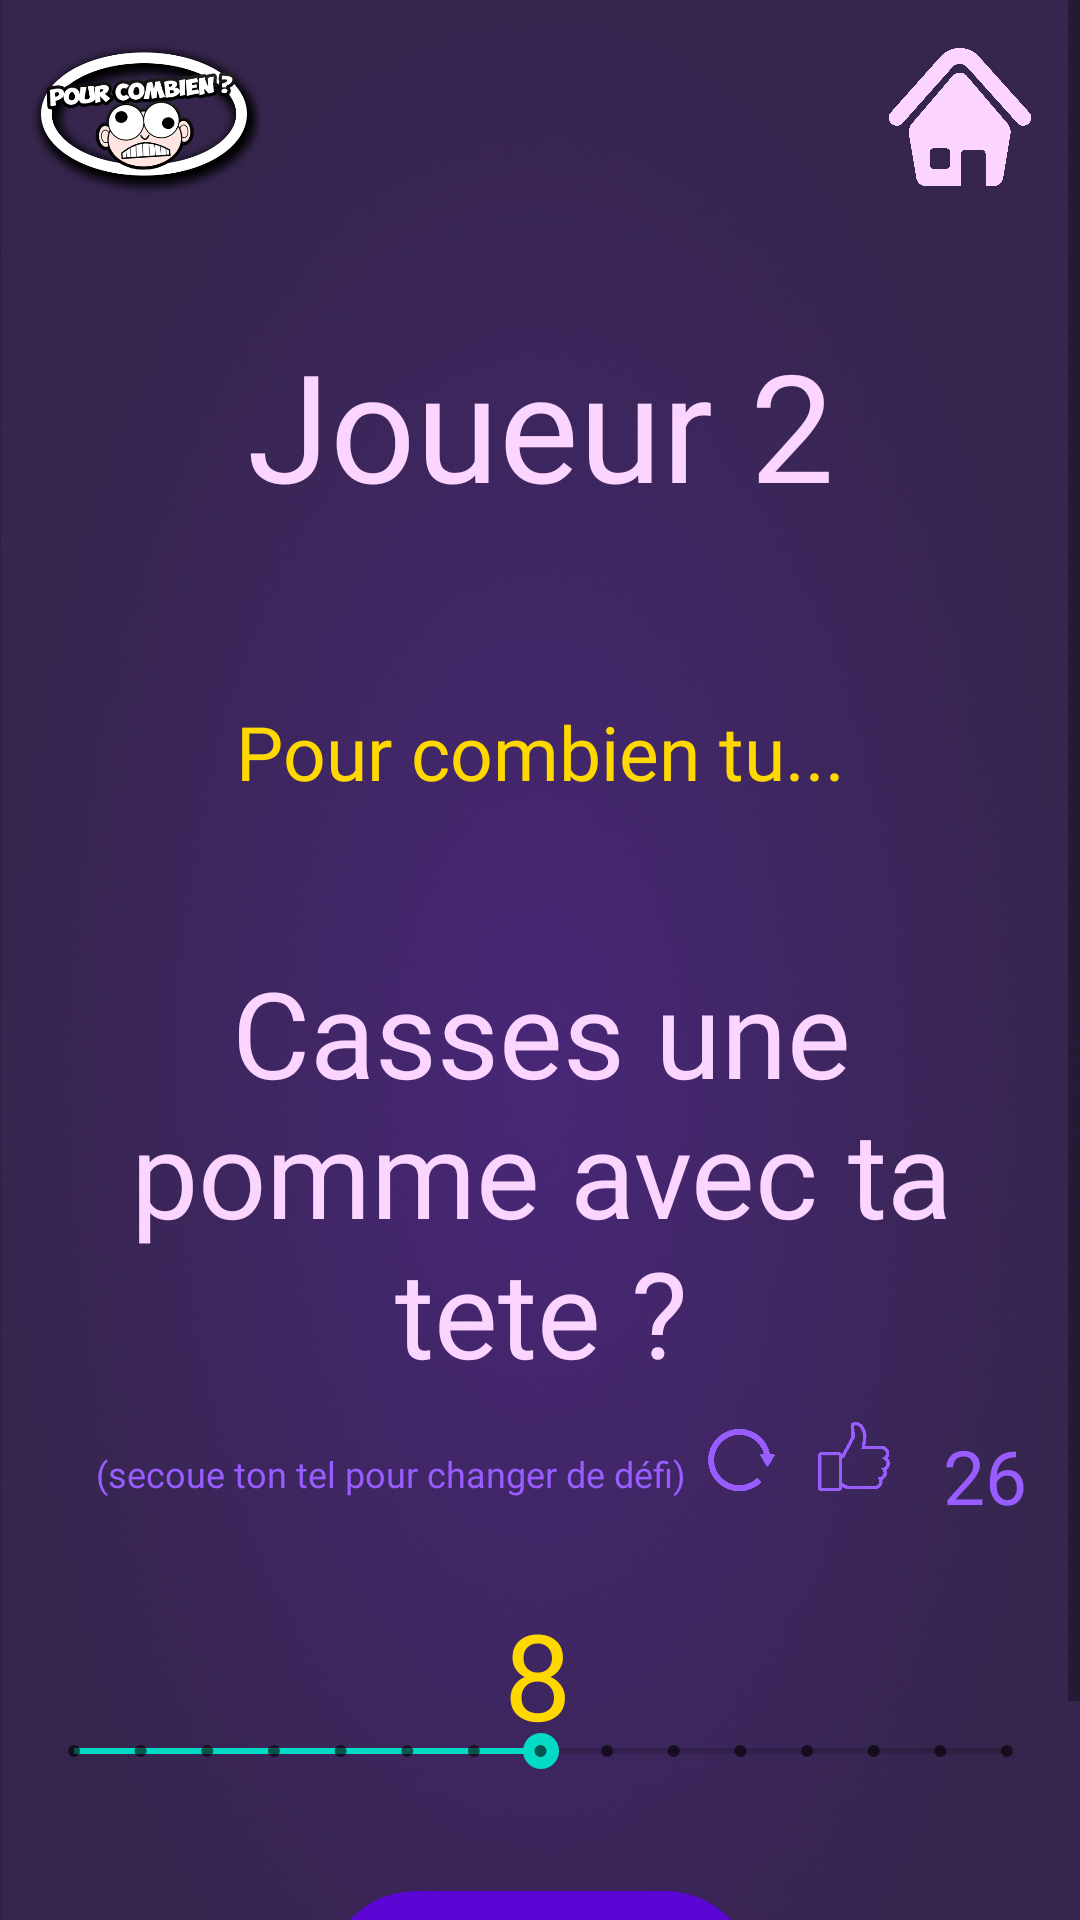

Point at icon controls on the screen. Image size 1080px×1920px, points as [x,y].
Flèche signifiant le rafraichissement d'une question: [741,1460]
Pouce représentant un "J'aime": [854,1456]
